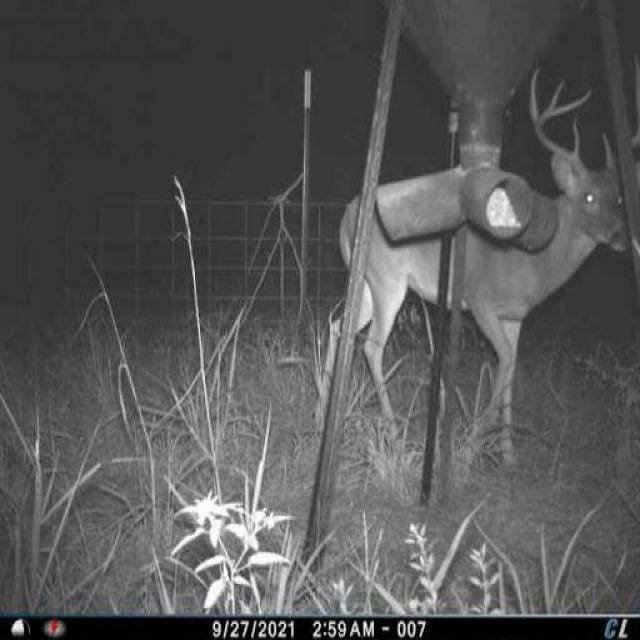deer: (314, 57, 640, 475)
